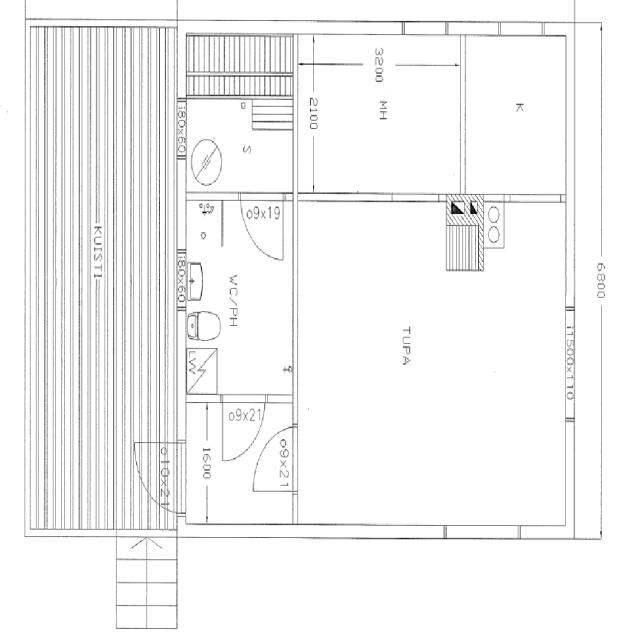window: (497, 15, 546, 42), (402, 16, 451, 42)
zone: (306, 39, 463, 198), (184, 194, 294, 399), (461, 30, 568, 200), (188, 97, 292, 193)
